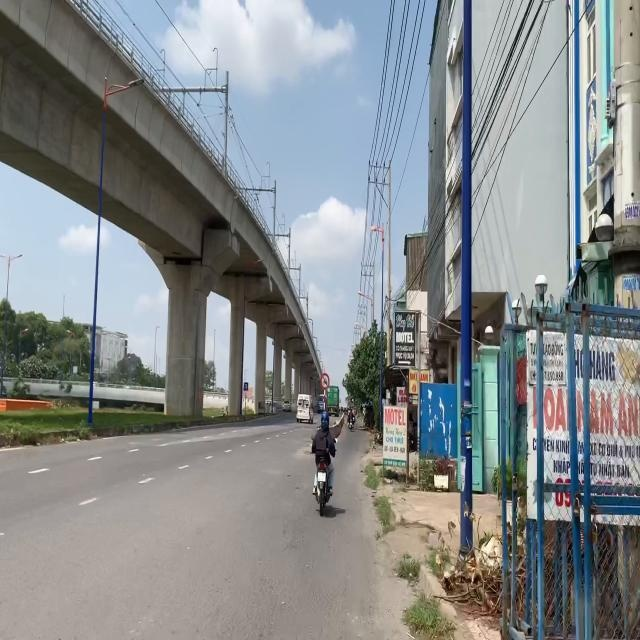bien_cam: (320, 372, 330, 390), (244, 382, 248, 392)
